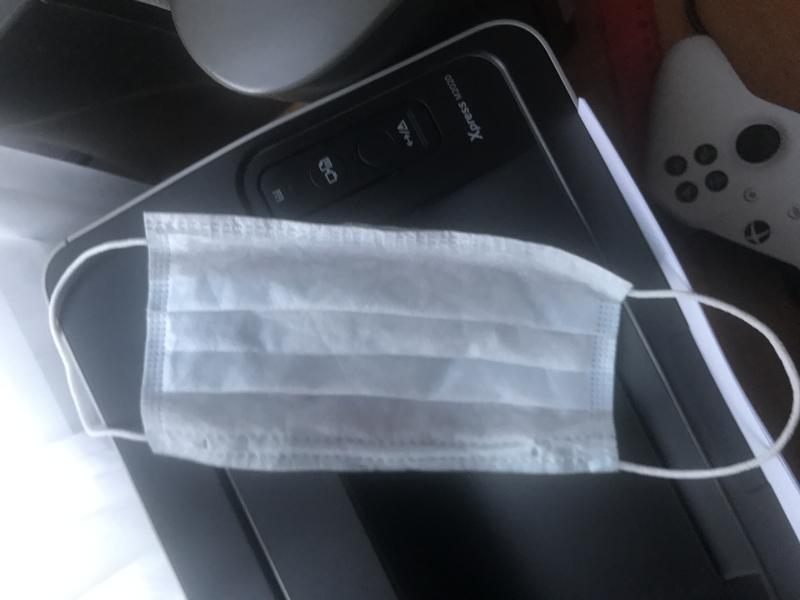medical_mask: (48, 218, 800, 482)
